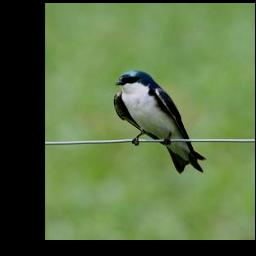Swallow: (113, 70, 208, 173)
